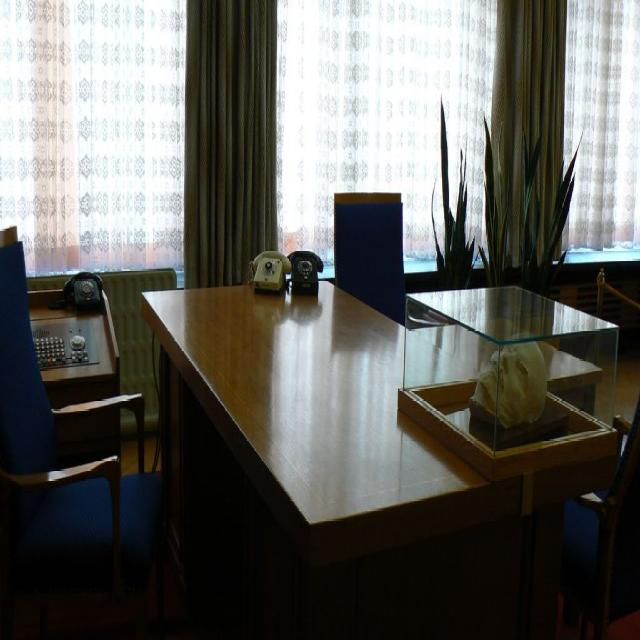chair: (0, 241, 136, 632), (557, 388, 640, 634), (333, 192, 443, 329)
desk: (139, 273, 617, 639)
